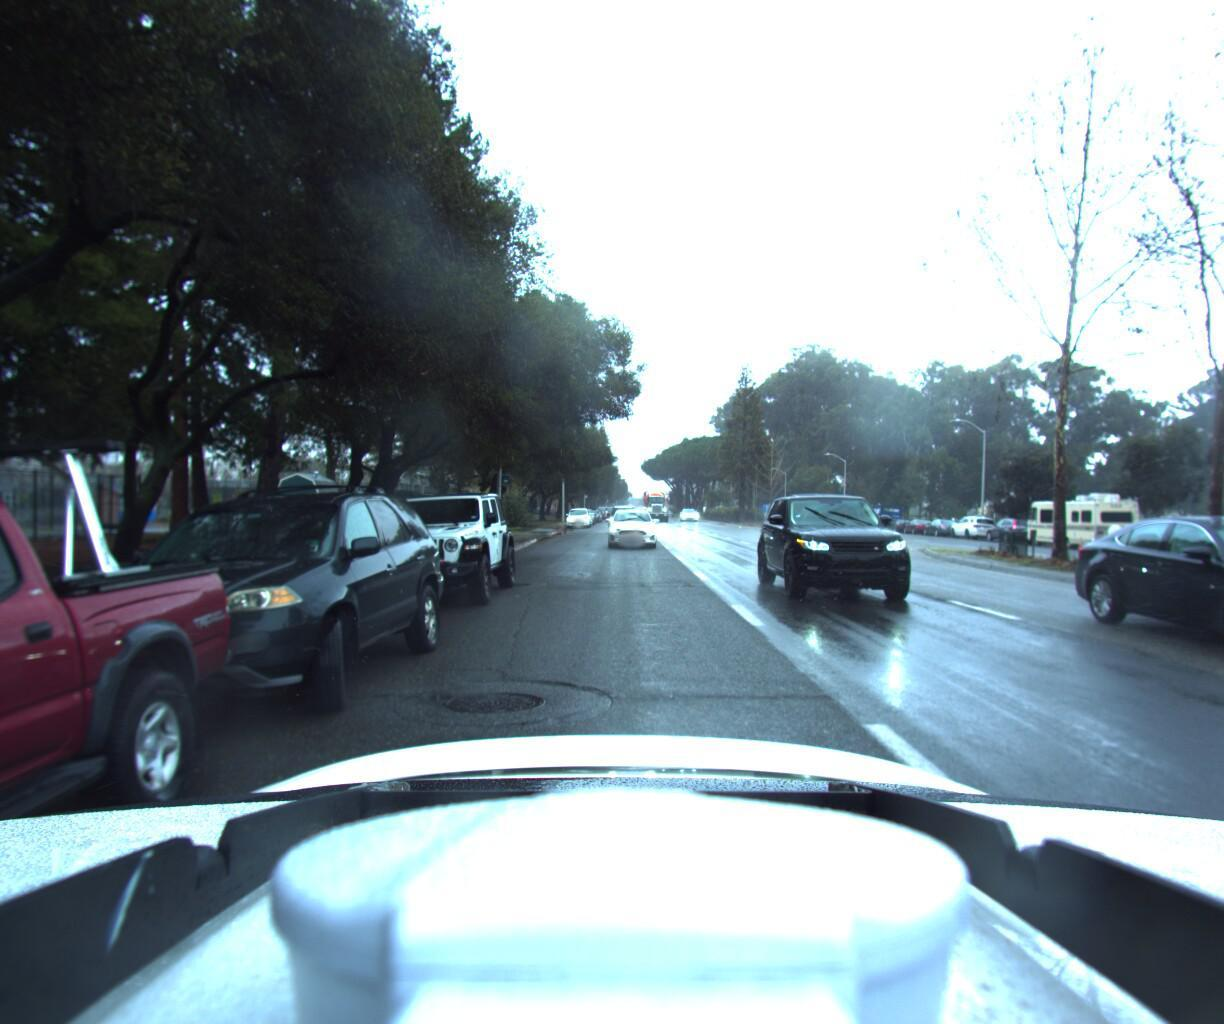car: (0, 0, 264, 1024), (15, 463, 453, 747), (755, 480, 959, 615), (1126, 496, 1224, 717), (348, 484, 518, 610), (1111, 523, 1206, 558), (607, 502, 658, 546), (944, 513, 1000, 539), (563, 505, 592, 529), (679, 506, 699, 521)
other_vehicle: (1019, 485, 1152, 551), (863, 502, 907, 530)
